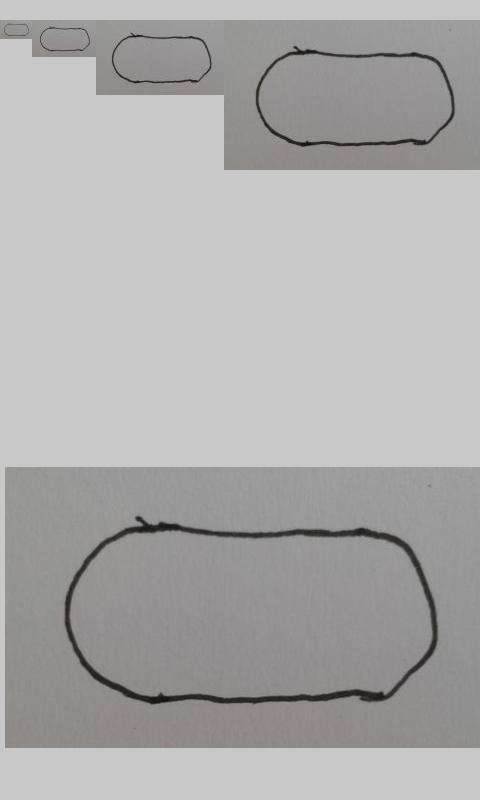chip: (62, 522, 440, 707), (256, 49, 456, 147), (112, 34, 213, 84), (39, 27, 91, 52), (3, 23, 30, 37)
